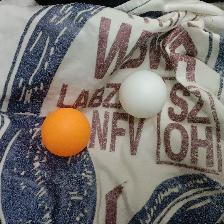WhiteBall: (118, 69, 167, 118)
YellowBall: (40, 107, 91, 157)
